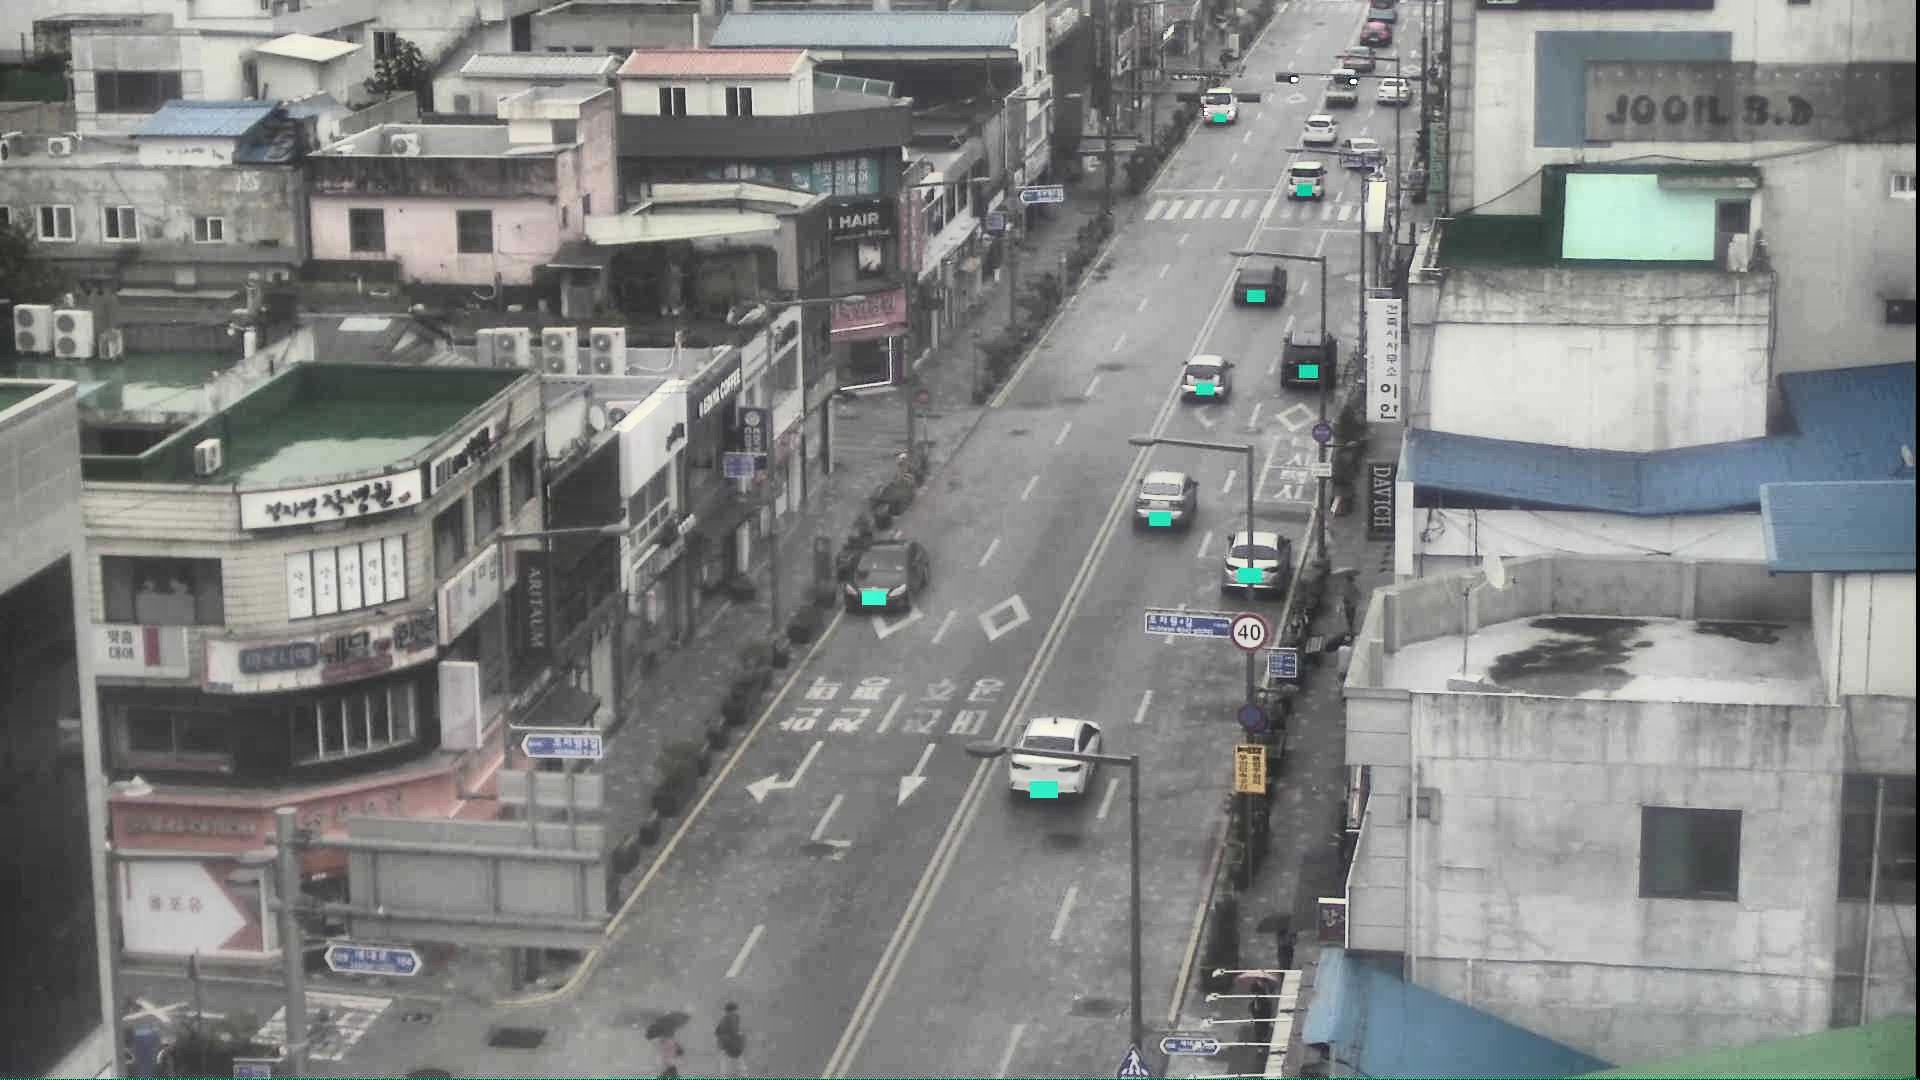jaywalk: (712, 999, 751, 1080)
um_jaywalk: (639, 1014, 690, 1080)
um_sidewalk: (1231, 971, 1284, 1046), (1259, 912, 1300, 992), (1325, 630, 1357, 707), (1333, 567, 1361, 635)
